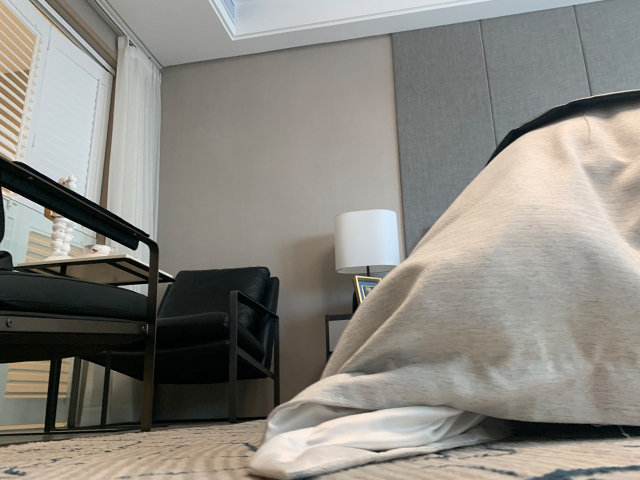carpet: (1, 418, 640, 480)
stool: (1, 153, 160, 436), (158, 265, 282, 425)
